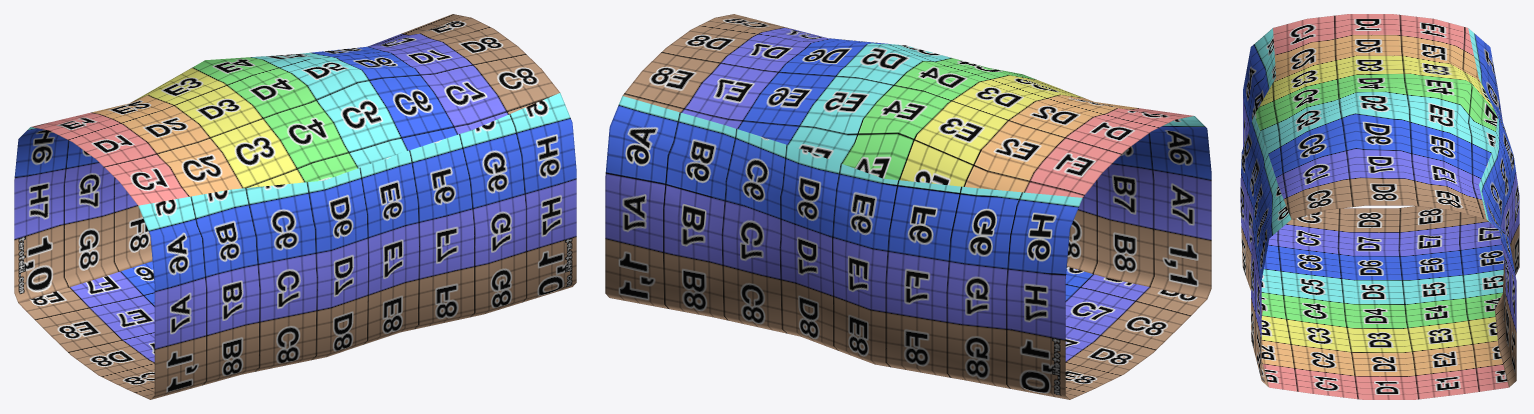
The model's file is grotte_straightHoriz.fbx.
The picture shows the model from 3 angles, left to right: view 1: azimuth 30°, elevation 25°; view 2: azimuth 150°, elevation 25°; view 3: azimuth 270°, elevation 25°; orthographic projection. The views are drawn at different scales.
Visible parts, largest first — view 1: grotte_straightHoriz; view 2: grotte_straightHoriz; view 3: grotte_straightHoriz.
Boxes of the visible parts, x1=… form: grotte_straightHoriz: x1=14, y1=14, x2=576, y2=399; grotte_straightHoriz: x1=605, y1=14, x2=1211, y2=399; grotte_straightHoriz: x1=1240, y1=14, x2=1519, y2=399.
Size of the model in its own units: 800 by 421 by 493.
Materials: 1 (1 with a texture image).
